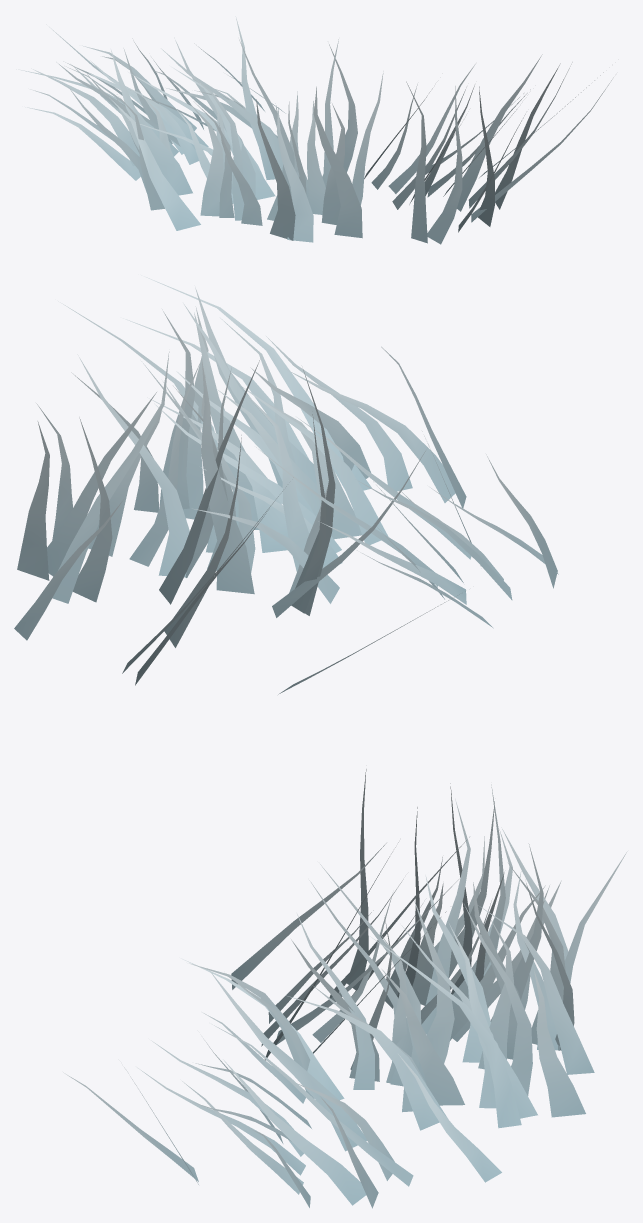
The model's file is mesh-plant-019-ember-tuft_LOD1.glb.
The picture shows the model from 3 angles, top to bottom: view 1: azimuth 30°, elevation 25°; view 2: azimuth 150°, elevation 25°; view 3: azimuth 270°, elevation 25°; orthographic projection. The views are drawn at different scales.
Visible parts, largest first — view 1: geometry_0; view 2: geometry_0; view 3: geometry_0.
Part boxes in pixels (<box>): geometry_0: <box>16,16,613,244</box>; geometry_0: <box>14,275,558,694</box>; geometry_0: <box>63,769,627,1208</box>.
Size of the model in its own units: 1.5 by 0.3857 by 1.22.
